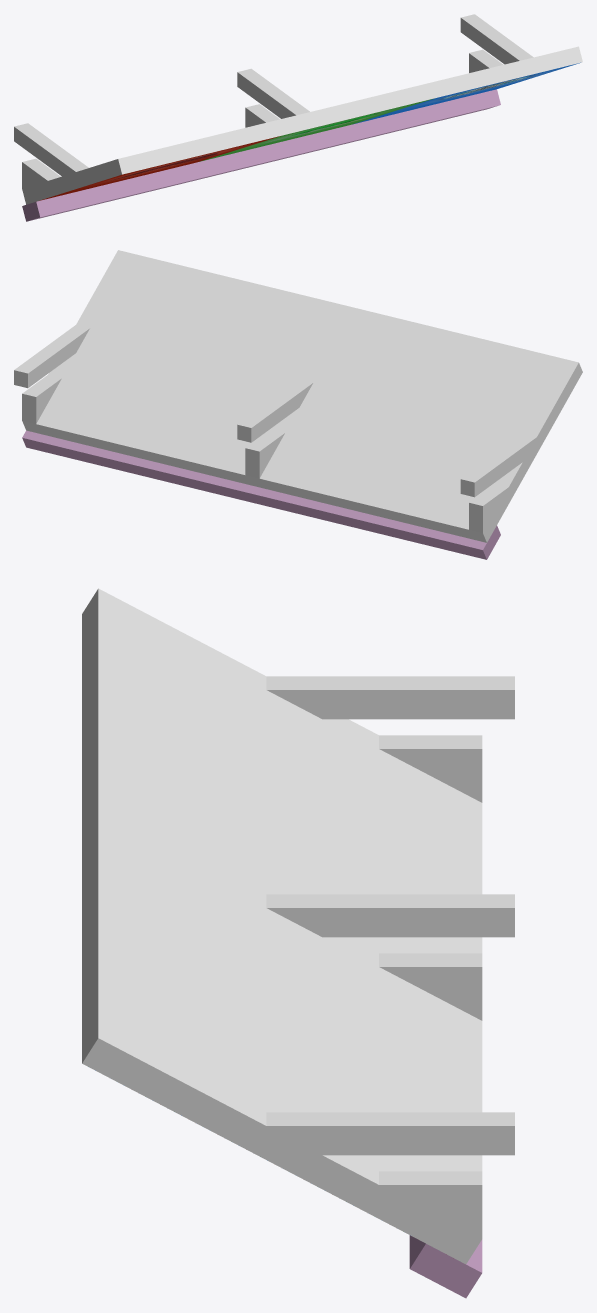
The model's file is gallery_purple.glb.
3 renders of one model, top to bottom at view 1: azimuth 30°, elevation 25°; view 2: azimuth 150°, elevation 25°; view 3: azimuth 270°, elevation 25°, orthographic. The views are drawn at different scales.
Visible parts, largest first — view 1: FRISE_1, BORDURE_1, Corps1_22_, Corps1_20__3, Corps1_20__4, Corps1_20__5, TRIANGLE_GAUCHE_1, TRIANGLE_CENTRE_1, TRIANGLE_DROIT_1; view 2: FRISE_1, BORDURE_1, Corps1_20__3, Corps1_20__5, Corps1_20__4, TRIANGLE_CENTRE_1, TRIANGLE_DROIT_1, TRIANGLE_GAUCHE_1; view 3: FRISE_1, Corps1_20__3, Corps1_20__4, Corps1_20__5, TRIANGLE_CENTRE_1, TRIANGLE_DROIT_1, TRIANGLE_GAUCHE_1, BORDURE_1.
Boxes of the visible parts, x1,y1,x2,y2 form: FRISE_1: (22, 46, 582, 204); BORDURE_1: (22, 89, 500, 221); Corps1_22_: (39, 62, 580, 200); Corps1_20__3: (14, 123, 88, 176); Corps1_20__4: (460, 14, 533, 64); Corps1_20__5: (237, 68, 309, 118); TRIANGLE_GAUCHE_1: (22, 158, 60, 188); TRIANGLE_CENTRE_1: (245, 104, 279, 127); TRIANGLE_DROIT_1: (469, 49, 503, 72); FRISE_1: (22, 250, 582, 542); BORDURE_1: (22, 430, 500, 559); Corps1_20__3: (460, 433, 536, 497); Corps1_20__5: (237, 379, 313, 442); Corps1_20__4: (14, 324, 89, 388); TRIANGLE_CENTRE_1: (245, 429, 284, 478); TRIANGLE_DROIT_1: (22, 375, 61, 423); TRIANGLE_GAUCHE_1: (469, 484, 508, 532); FRISE_1: (82, 588, 482, 1264); Corps1_20__3: (266, 676, 514, 719); Corps1_20__4: (266, 1112, 514, 1155); Corps1_20__5: (266, 894, 514, 937); TRIANGLE_CENTRE_1: (379, 953, 482, 1020); TRIANGLE_DROIT_1: (379, 1171, 482, 1238); TRIANGLE_GAUCHE_1: (379, 735, 482, 802); BORDURE_1: (409, 1235, 482, 1298).
Bounding box in the file's own units: 0.72 × 0.1945 × 0.2928.
Materials: 2 (1 with a texture image).
